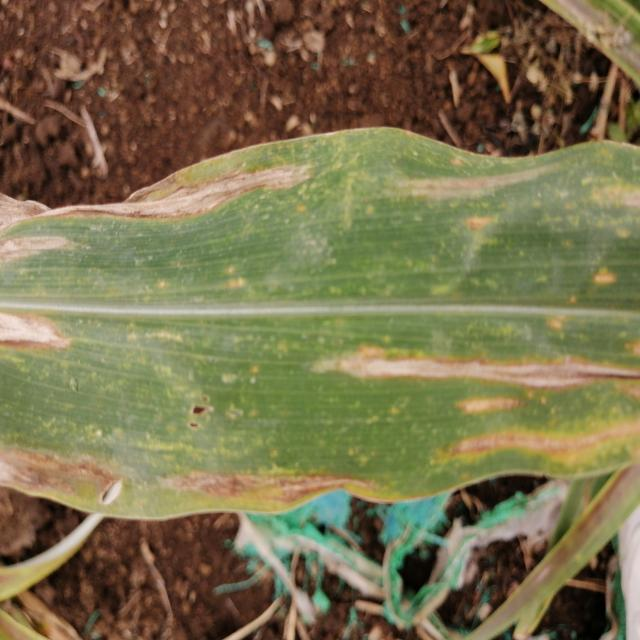Corn_Leaf_Blight: (12, 138, 640, 520)
